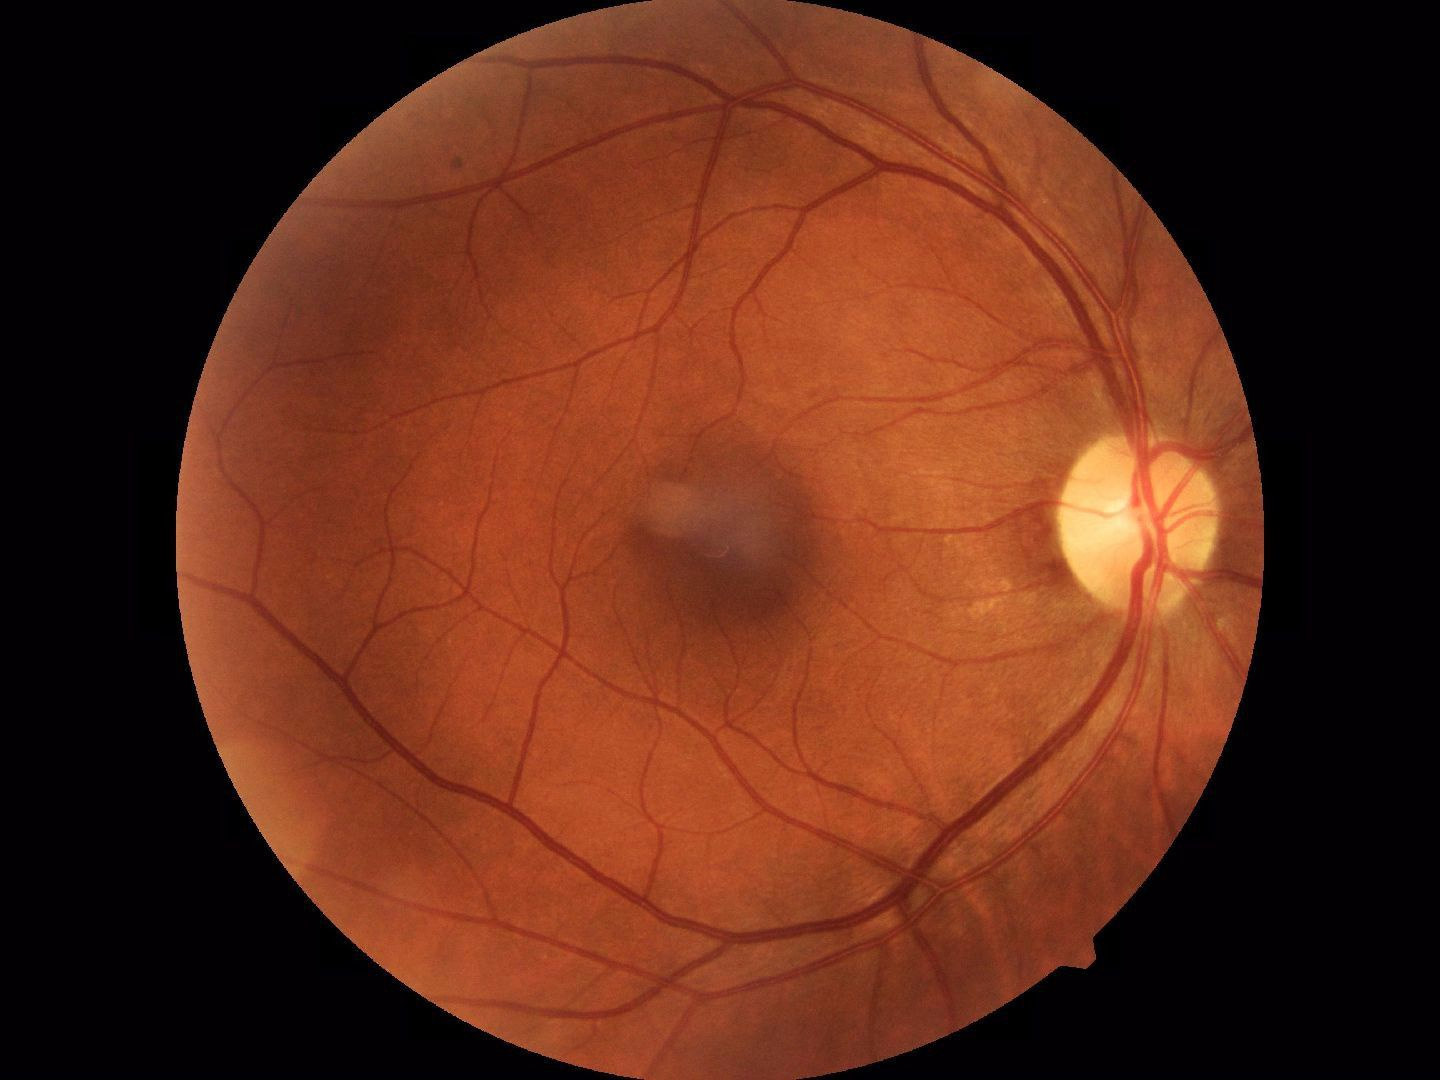Arterioles: (393, 504, 585, 697)
He: (634, 452, 805, 635)
Optic-Disc: (1040, 415, 1217, 635)
Venules: (725, 811, 980, 980), (968, 157, 1147, 369)
